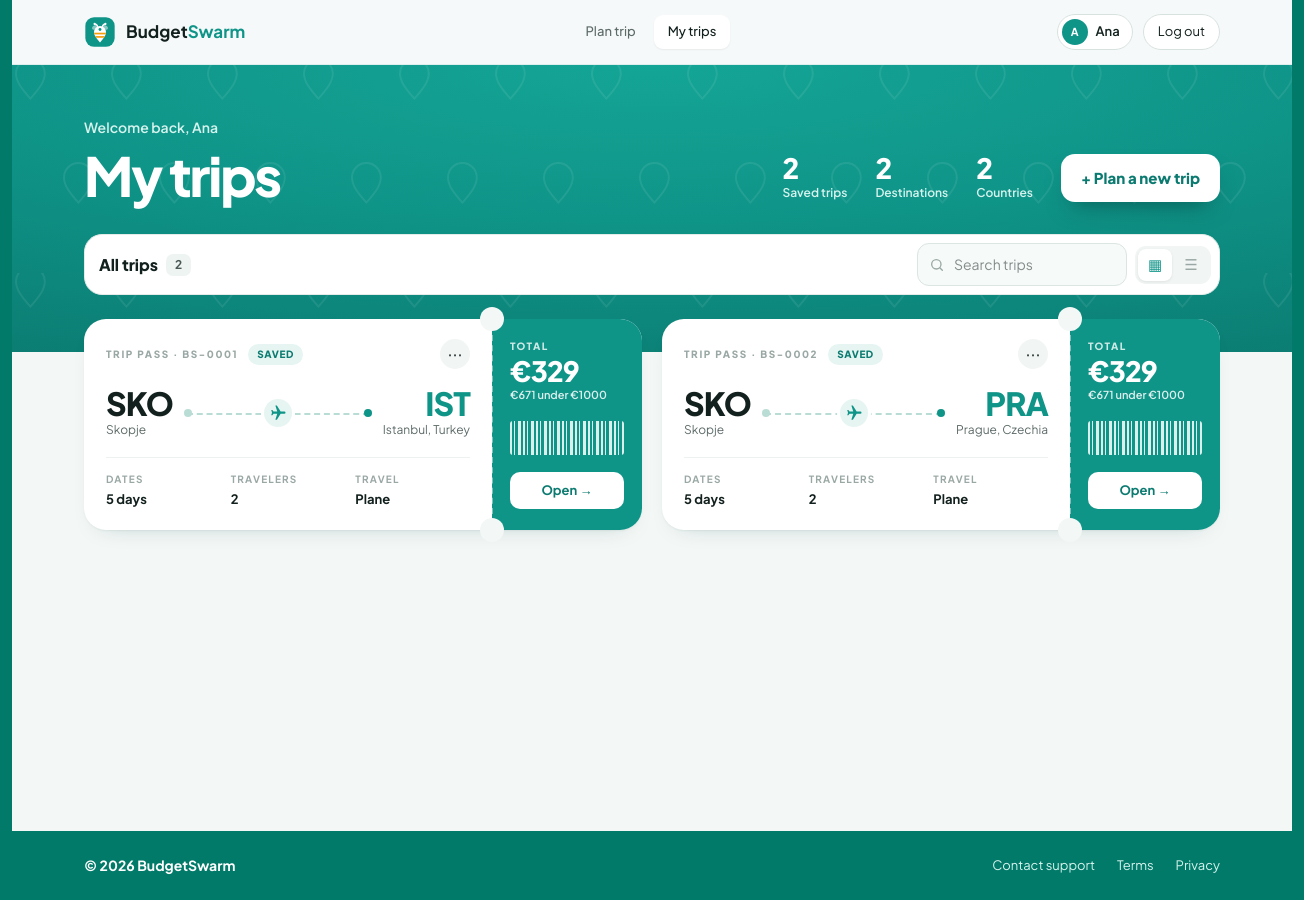
MyTripsPage › filters trips by the search box
Expected: the text "Istanbul, Turkey" is shown, [383,421,470,439]
Type "prague" into the field labelled "Search trips" at (1022, 264), box [917,243,1127,286]
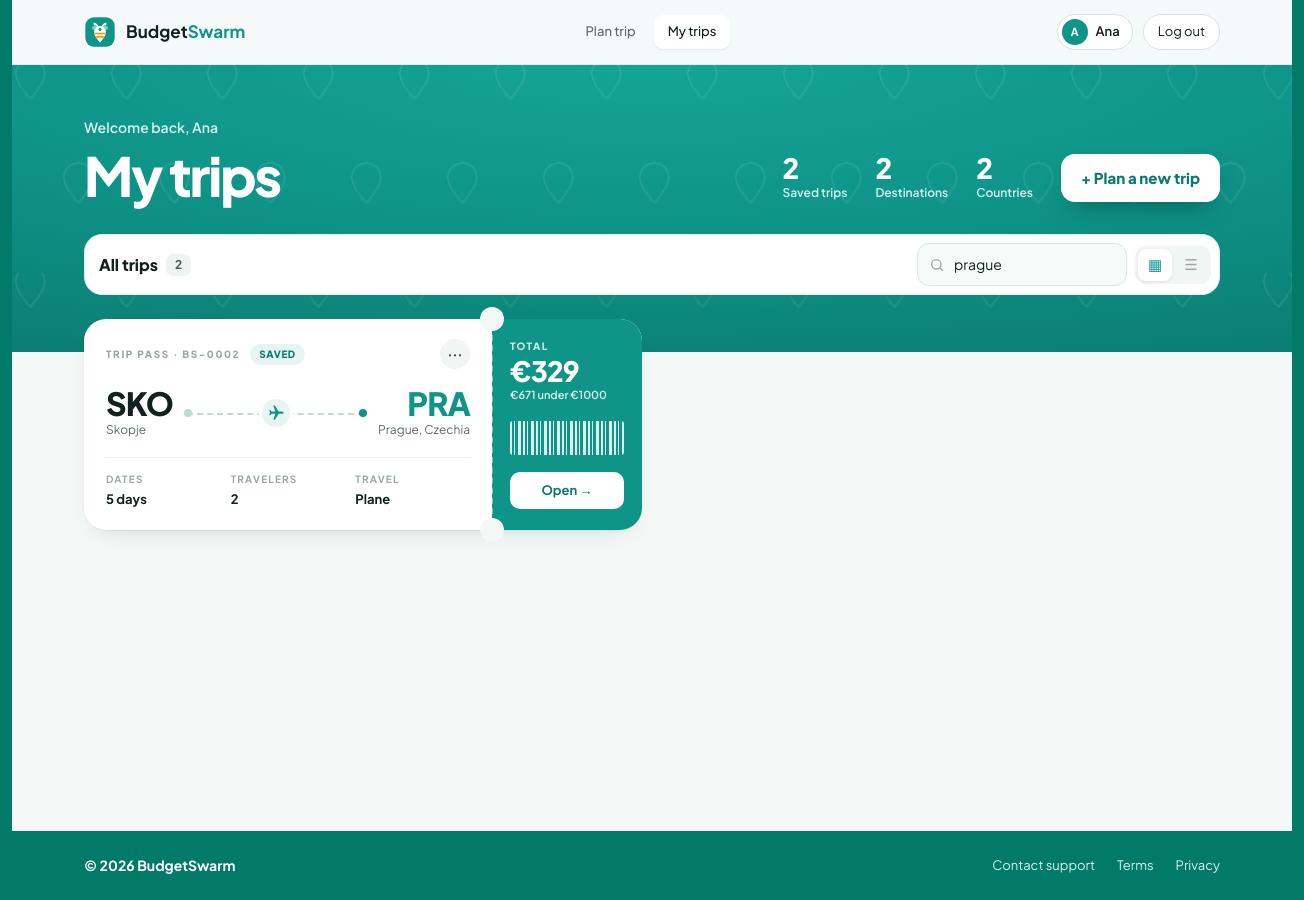
Expected: the text "Prague, Czechia" is shown, [378,421,470,439]
Result: the text "Istanbul, Turkey" is gone
